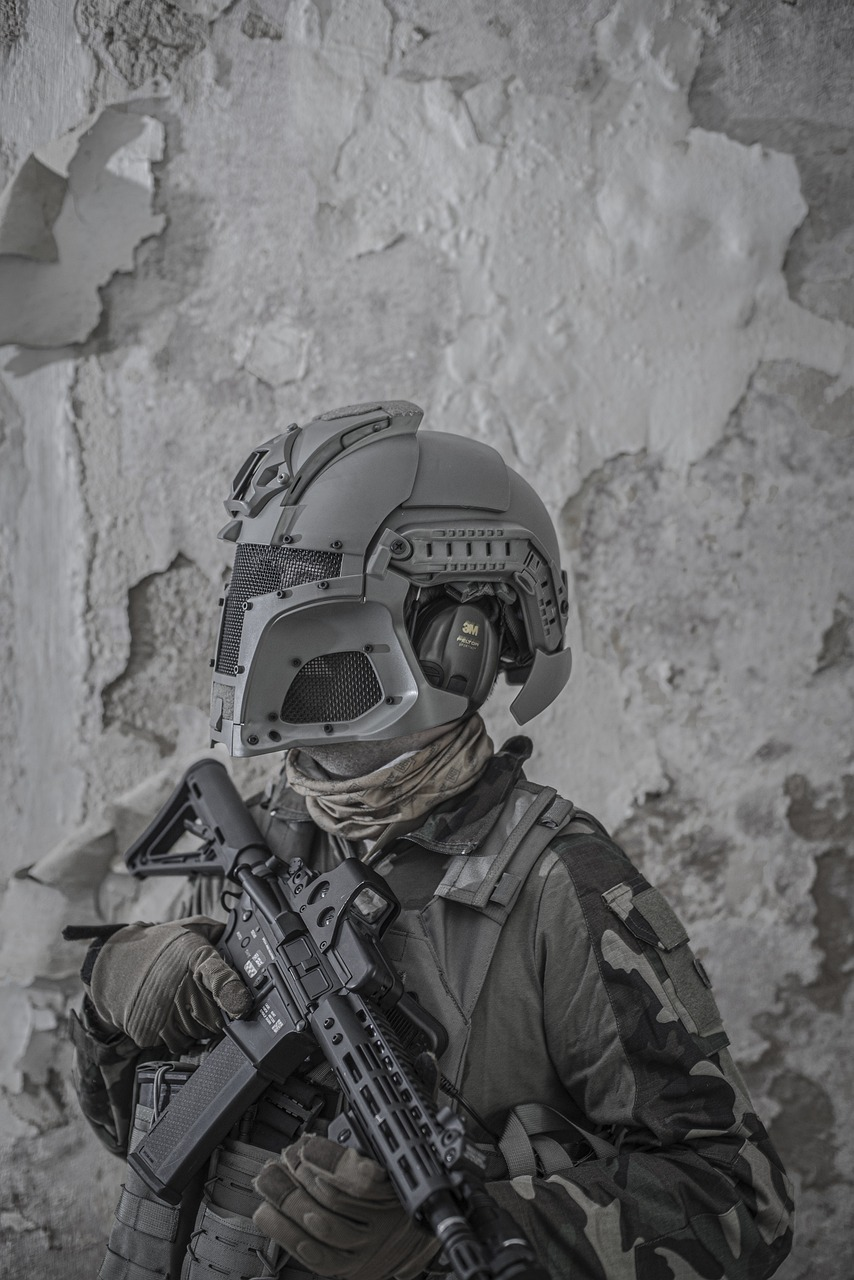gun: (110, 754, 505, 1280)
